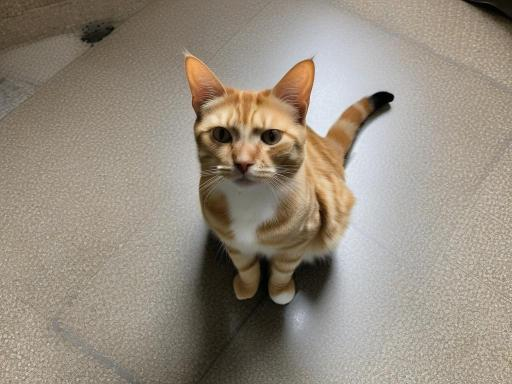cat_sitting: (184, 54, 393, 304)
